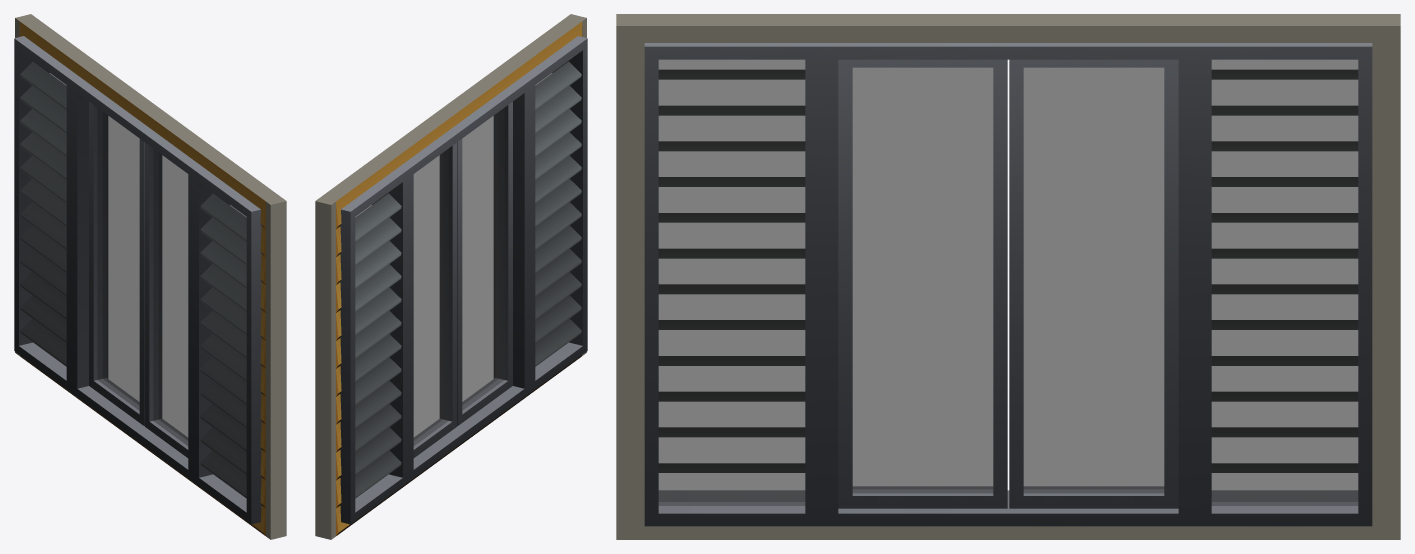
The model's file is TSP_House_Wall_Short_11B.fbx.
3 views of the same model, side by side, from view 1: azimuth 30°, elevation 25°; view 2: azimuth 150°, elevation 25°; view 3: azimuth 270°, elevation 25° (orthographic). The views are drawn at different scales.
Visible parts, largest first — view 1: TSP_House_Wall_Short_11B, TSP_House_Wall_Short_11B_Blinds, TSP_House_Wall_Short_11B_Window.R, TSP_House_Wall_Short_11B_Window.L; view 2: TSP_House_Wall_Short_11B, TSP_House_Wall_Short_11B_Blinds, TSP_House_Wall_Short_11B_Window.L, TSP_House_Wall_Short_11B_Window.R; view 3: TSP_House_Wall_Short_11B, TSP_House_Wall_Short_11B_Window.R, TSP_House_Wall_Short_11B_Window.L, TSP_House_Wall_Short_11B_Blinds.
Part boxes in pixels (bbox=[...]): TSP_House_Wall_Short_11B: bbox=[14, 14, 286, 539]; TSP_House_Wall_Short_11B_Blinds: bbox=[20, 61, 246, 498]; TSP_House_Wall_Short_11B_Window.R: bbox=[89, 101, 144, 426]; TSP_House_Wall_Short_11B_Window.L: bbox=[145, 142, 188, 457]; TSP_House_Wall_Short_11B: bbox=[315, 14, 587, 539]; TSP_House_Wall_Short_11B_Blinds: bbox=[355, 61, 581, 498]; TSP_House_Wall_Short_11B_Window.L: bbox=[457, 101, 512, 426]; TSP_House_Wall_Short_11B_Window.R: bbox=[413, 142, 456, 457]; TSP_House_Wall_Short_11B: bbox=[616, 14, 1400, 539]; TSP_House_Wall_Short_11B_Window.R: bbox=[1009, 59, 1178, 508]; TSP_House_Wall_Short_11B_Window.L: bbox=[838, 59, 1007, 508]; TSP_House_Wall_Short_11B_Blinds: bbox=[659, 70, 1357, 472].
Bounding box in the file's own units: 0.29 × 3 × 4.15.
